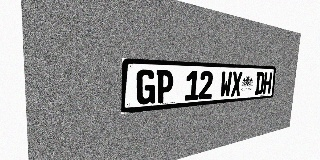1: (185, 70, 200, 101)
2: (199, 71, 213, 100)
D: (255, 72, 265, 95)
G: (136, 69, 156, 105)
H: (263, 72, 272, 94)
P: (155, 70, 174, 103)
W: (220, 71, 232, 98)
X: (231, 71, 242, 97)
